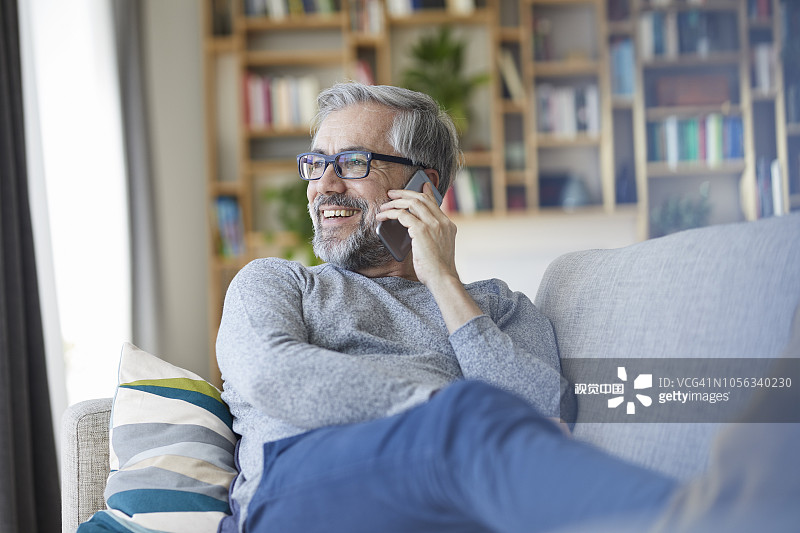calling: (360, 148, 484, 306)
